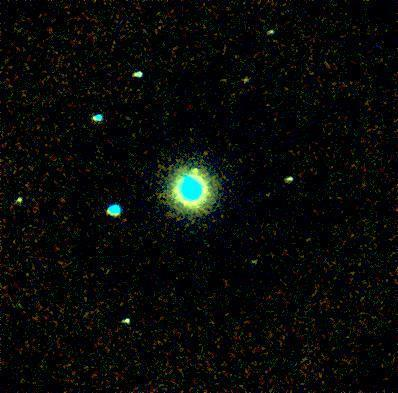star: (182, 156, 212, 186)
